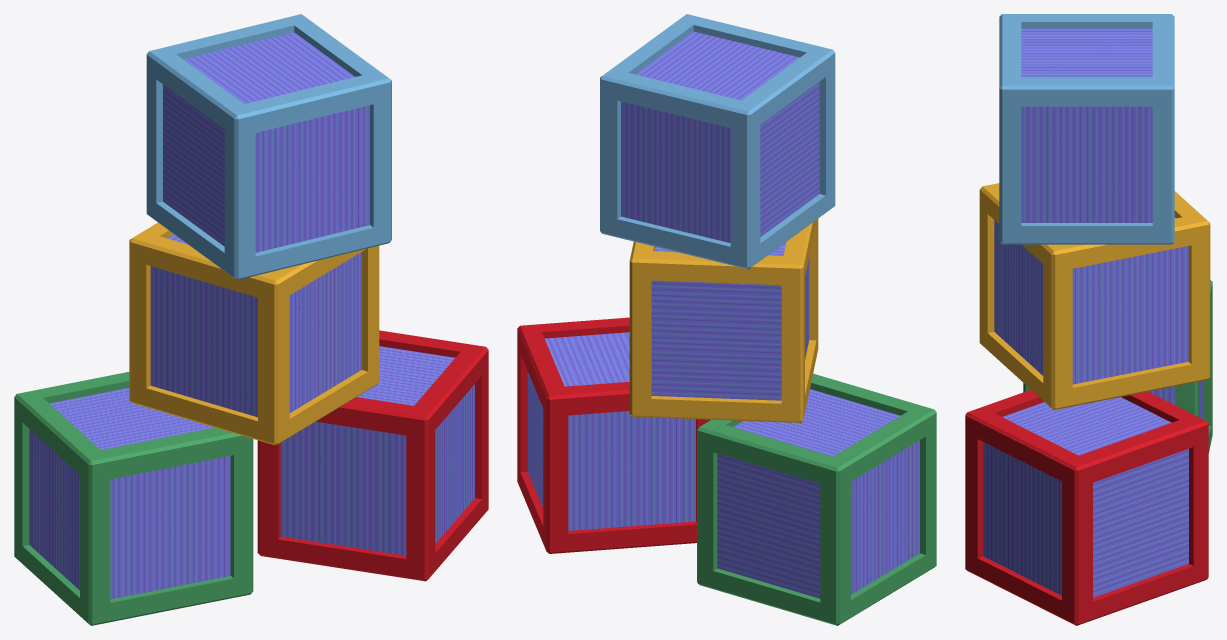
The model's file is WoodBlocks_Group_B_00.FBX.
The picture shows the model from 3 angles, left to right: view 1: azimuth 30°, elevation 25°; view 2: azimuth 150°, elevation 25°; view 3: azimuth 270°, elevation 25°; orthographic projection. The views are drawn at different scales.
Parts seen in each view (by area): view 1: WoodBlocks_Group_B_Rough_00, WoodBlocks_Group_B_00; view 2: WoodBlocks_Group_B_Rough_00, WoodBlocks_Group_B_00; view 3: WoodBlocks_Group_B_Rough_00, WoodBlocks_Group_B_00.
Part boxes in pixels (x1,y1,x2,y2): WoodBlocks_Group_B_Rough_00: (29,32,474,599); WoodBlocks_Group_B_00: (14,14,488,625); WoodBlocks_Group_B_Rough_00: (527,31,919,598); WoodBlocks_Group_B_00: (517,14,936,625); WoodBlocks_Group_B_Rough_00: (983,28,1203,597); WoodBlocks_Group_B_00: (965,14,1212,625).
Size of the model in its own units: 3.18 by 3.6 by 1.69.
